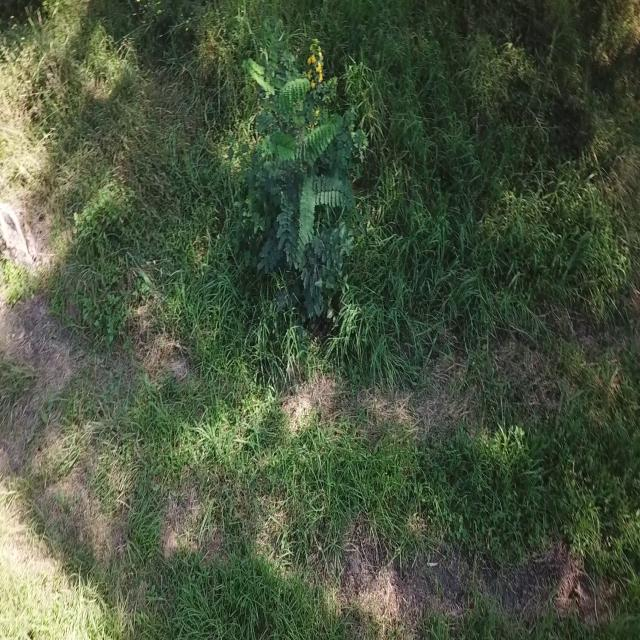Mysore-Thorn-Weed: (234, 26, 366, 348)
